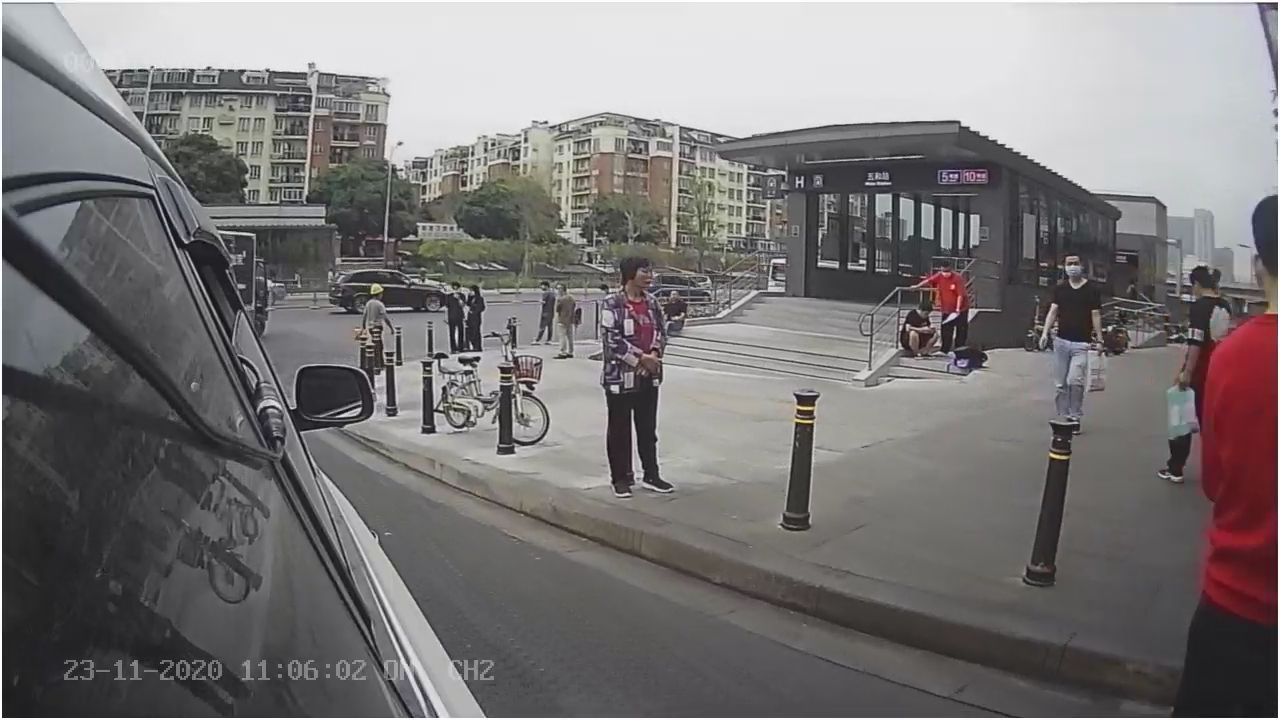person: (590, 249, 688, 505)
